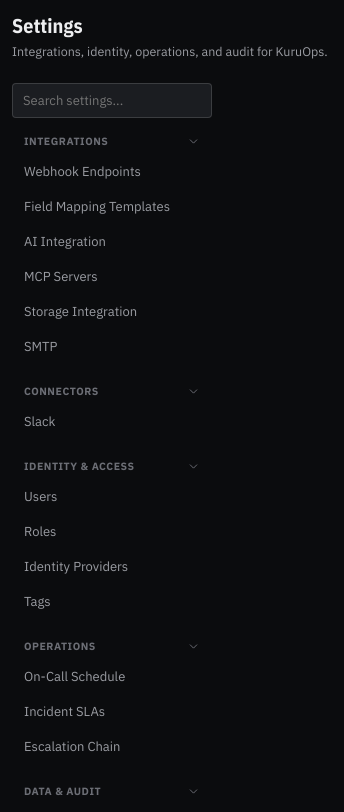
Test case: SettingsLayout nav search › shows a no-results message when nothing matches
Type "xyzxyz-nomatch" into the field with placeholder "Search settings..." at (112, 100), box x1=12 y1=83 x2=212 y2=118
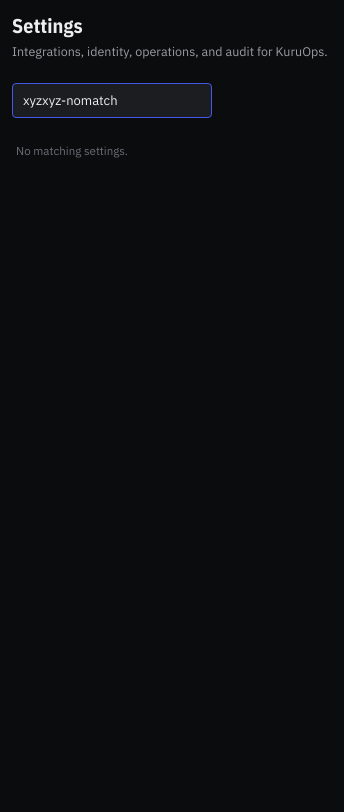
Now the text "No matching settings." is shown, box x1=16 y1=142 x2=128 y2=158
Now the link "Webhook Endpoints" is gone
